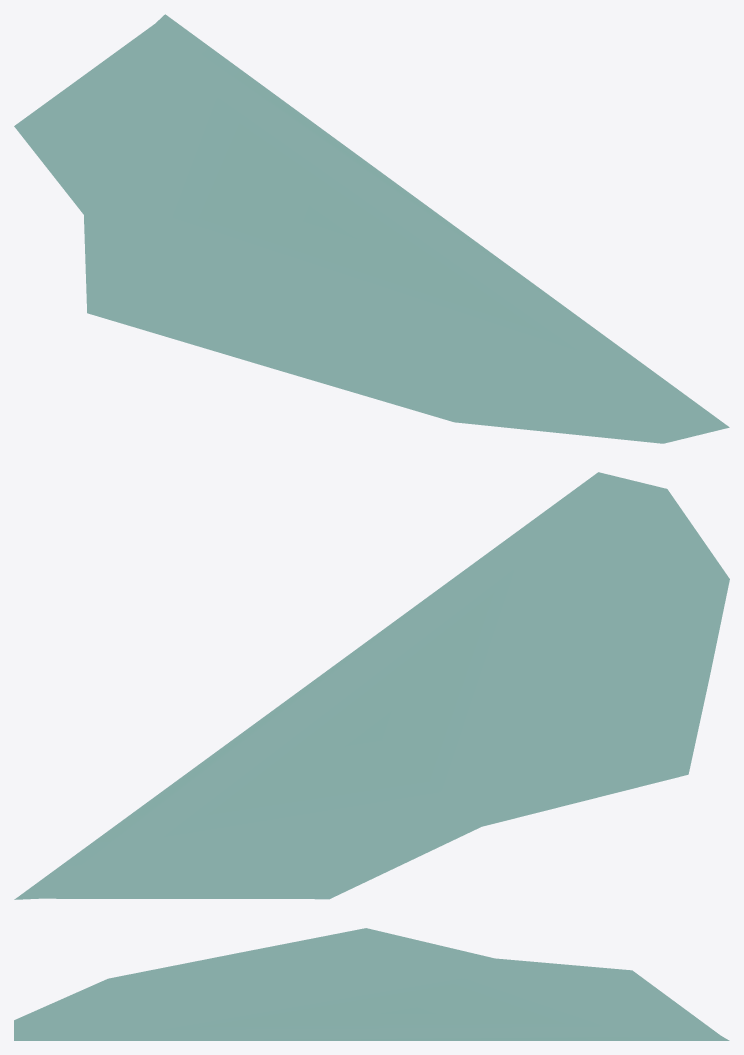
The model's file is water-14-5.glb.
The picture shows the model from 3 angles, top to bottom: view 1: azimuth 30°, elevation 25°; view 2: azimuth 150°, elevation 25°; view 3: azimuth 270°, elevation 25°; orthographic projection. The views are drawn at different scales.
Bounding box in the file's own units: 5.31 × 0 × 14.23.
